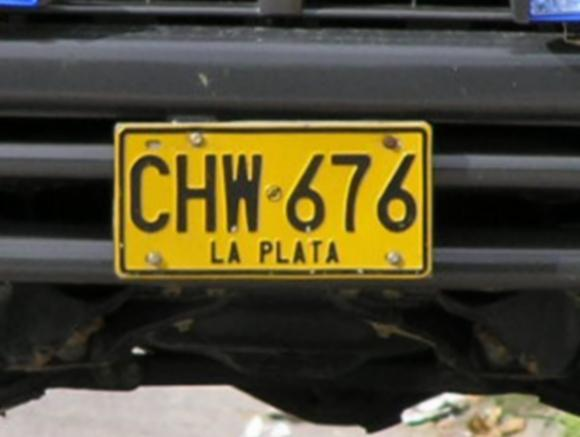placas: (109, 114, 437, 283)
